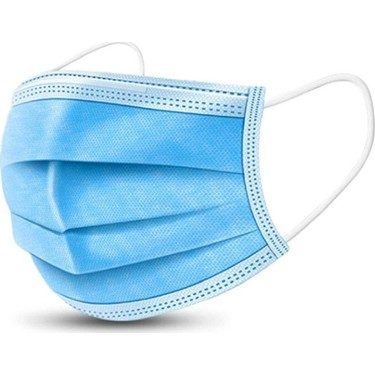maske: (3, 56, 370, 330)
